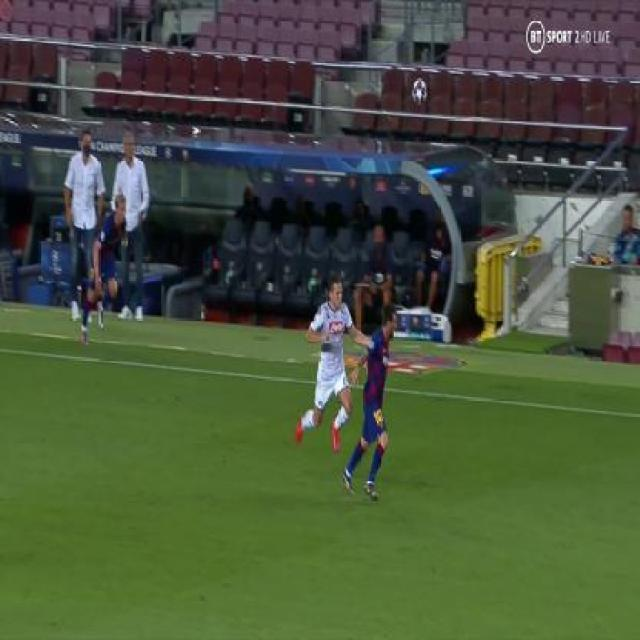ball: (408, 75, 430, 108)
player: (288, 266, 370, 466), (340, 279, 405, 499), (84, 193, 129, 350)
